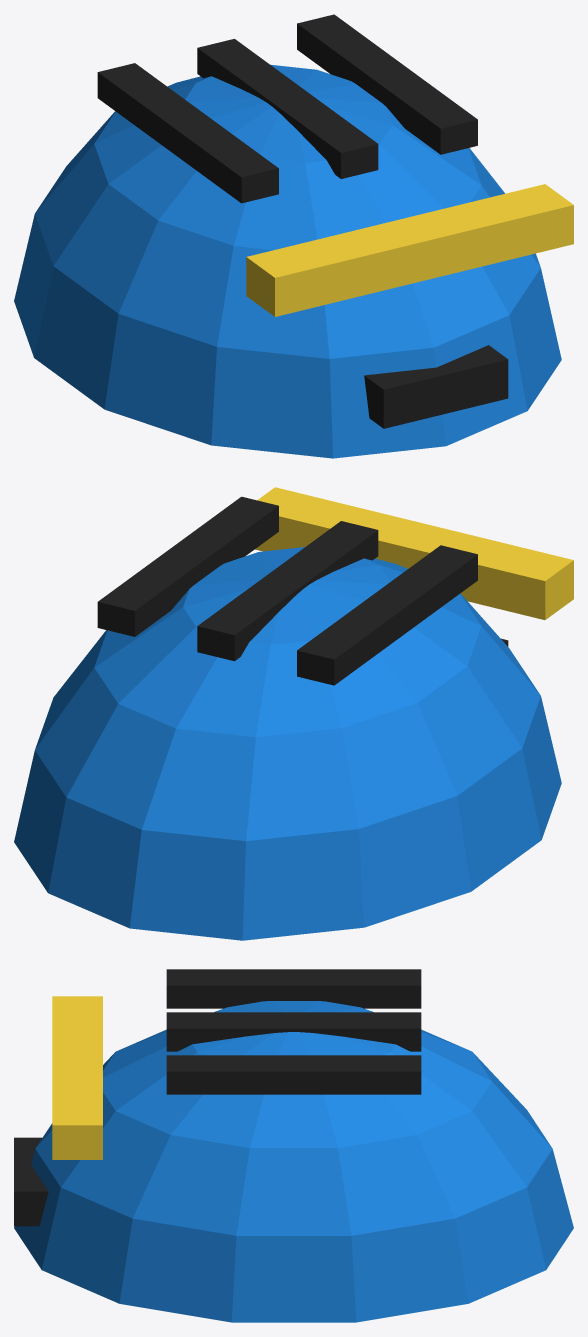
The model's file is hjalm.glb.
The picture shows the model from 3 angles, top to bottom: view 1: azimuth 30°, elevation 25°; view 2: azimuth 150°, elevation 25°; view 3: azimuth 270°, elevation 25°; orthographic projection. The views are drawn at different scales.
Visible parts, largest first — view 1: hjalm; view 2: hjalm; view 3: hjalm.
Boxes of the visible parts, bbox=[...] form: hjalm: bbox=[14, 14, 573, 458]; hjalm: bbox=[14, 487, 573, 940]; hjalm: bbox=[14, 969, 573, 1322].
Bounding box in the file's own units: 0.351 × 0.1877 × 0.44.
